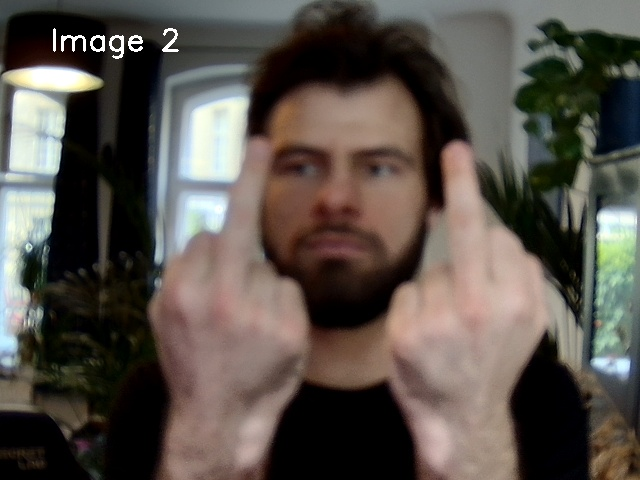Peace Among Worlds: (148, 120, 566, 465)
